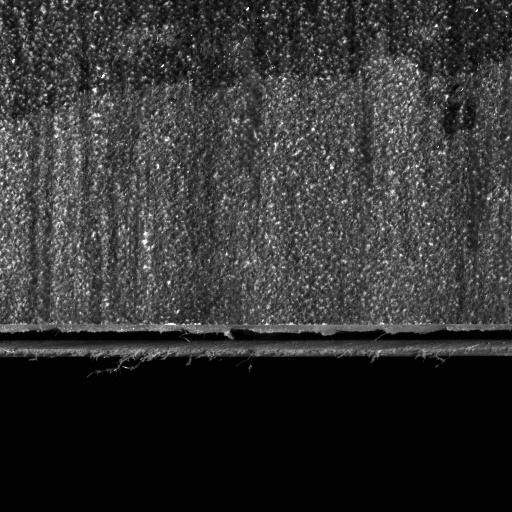kaijiao: (0, 313, 511, 362)
